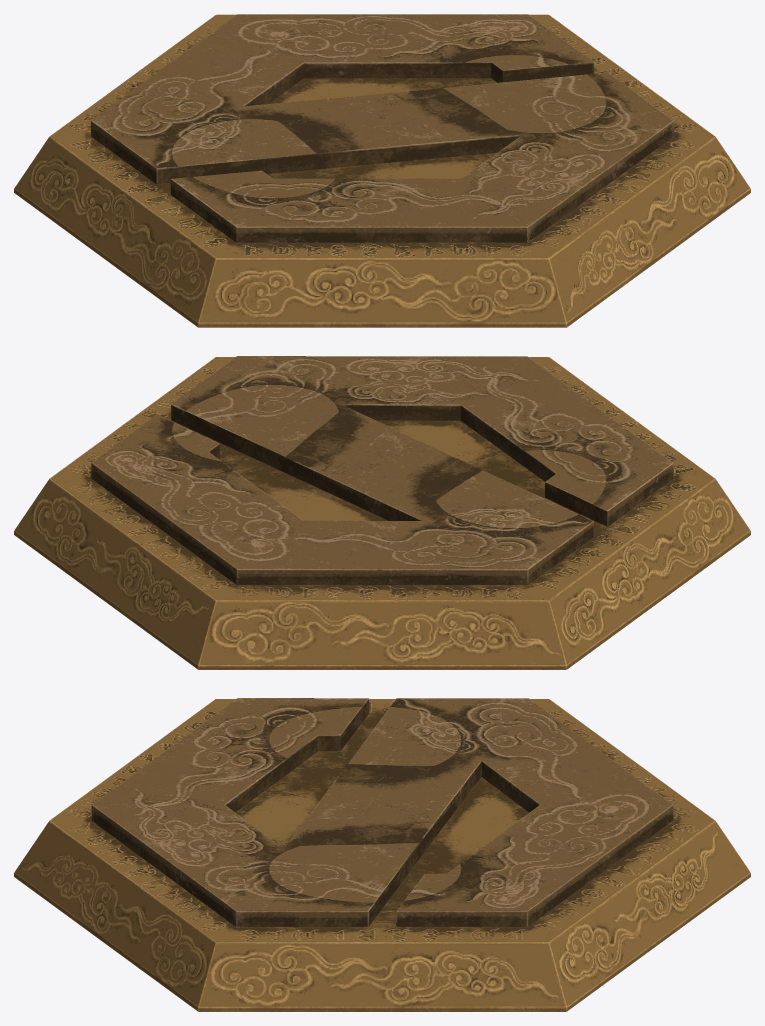
File: dizuo.gltf
3 views of the same model, one above another, from view 1: azimuth 30°, elevation 25°; view 2: azimuth 150°, elevation 25°; view 3: azimuth 270°, elevation 25° (orthographic).
Parts seen in each view (by area): view 1: base; view 2: base; view 3: base.
Part boxes in pixels (left/top/right/bottom): base: left=14, top=14, right=750, bottom=327; base: left=14, top=356, right=750, bottom=669; base: left=14, top=698, right=750, bottom=1011.
Size of the model in its own units: 0.8252 by 0.1034 by 0.9523.
Materials: 1 (1 with a texture image).
